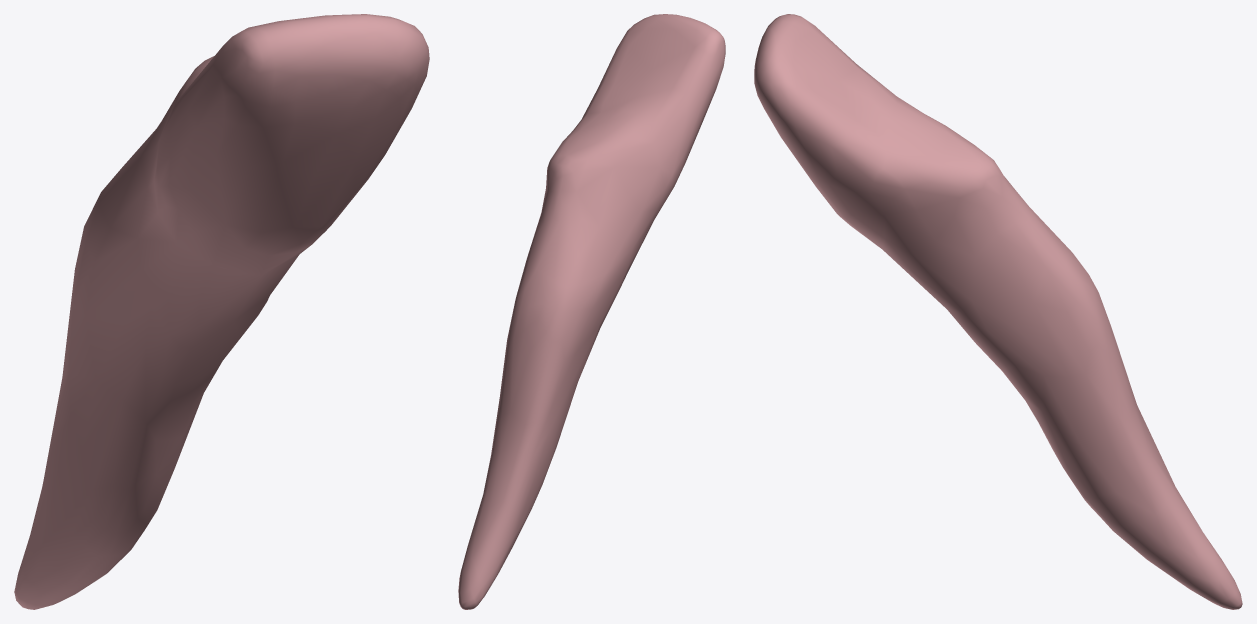
The model's file is fma57142_mm815m.glb.
The picture shows the model from 3 angles, left to right: view 1: azimuth 30°, elevation 25°; view 2: azimuth 150°, elevation 25°; view 3: azimuth 270°, elevation 25°; orthographic projection. The views are drawn at different scales.
Parts seen in each view (by area): view 1: FMA57142_MM815M; view 2: FMA57142_MM815M; view 3: FMA57142_MM815M.
Part boxes in pixels (x1,y1,x2,y2): FMA57142_MM815M: [14, 14, 429, 609]; FMA57142_MM815M: [458, 14, 725, 609]; FMA57142_MM815M: [754, 14, 1242, 609].
Size of the model in its own units: 0.00541 by 0.0222 by 0.0176.
